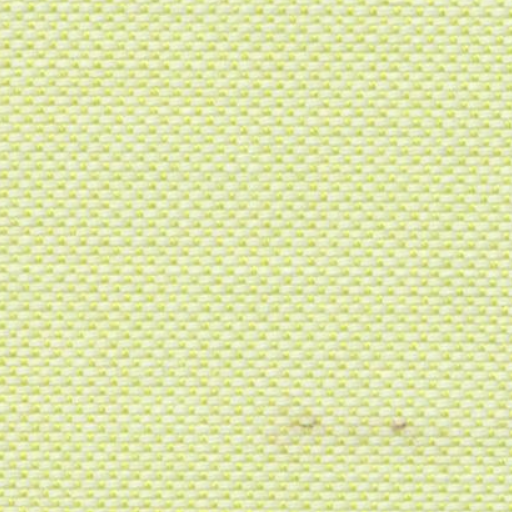WuZi: (264, 394, 440, 458)
